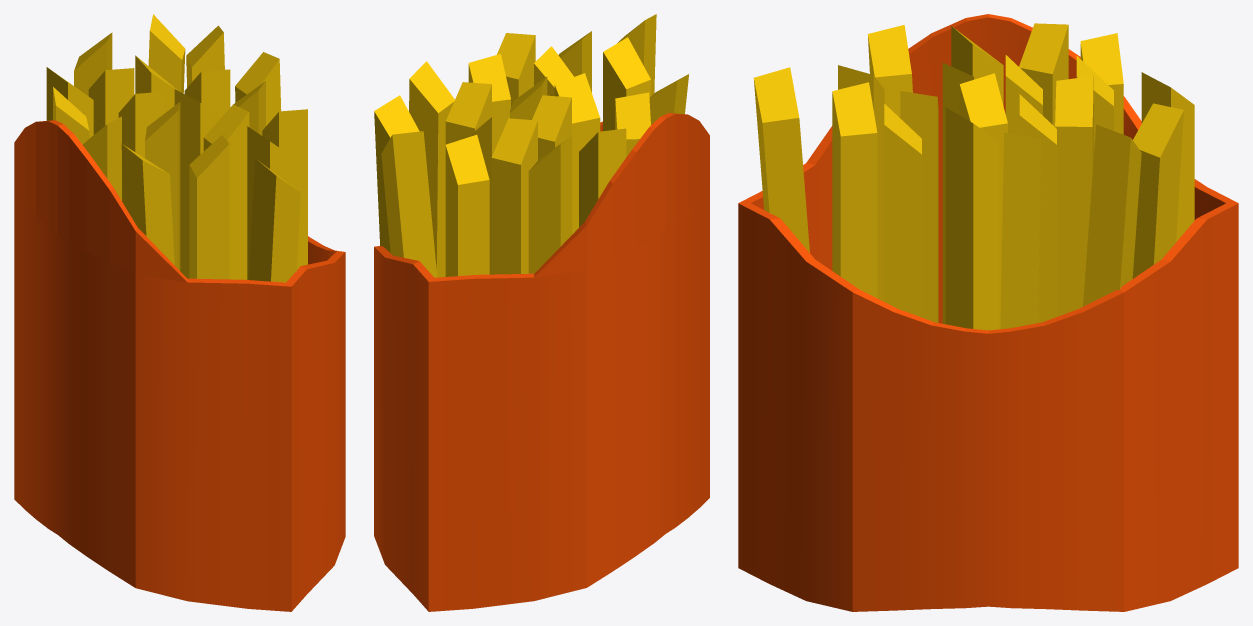
The model's file is Fries.fbx.
3 views of the same model, side by side, from view 1: azimuth 30°, elevation 25°; view 2: azimuth 150°, elevation 25°; view 3: azimuth 270°, elevation 25° (orthographic). The views are drawn at different scales.
Visible parts, largest first — view 1: pCube22; view 2: pCube22; view 3: pCube22.
Boxes of the visible parts, x1,y1,x2,y2 form: pCube22: [14, 14, 345, 611]; pCube22: [374, 14, 709, 611]; pCube22: [738, 14, 1238, 611].
Size of the model in its own units: 0.5698 by 0.9817 by 0.9016.
